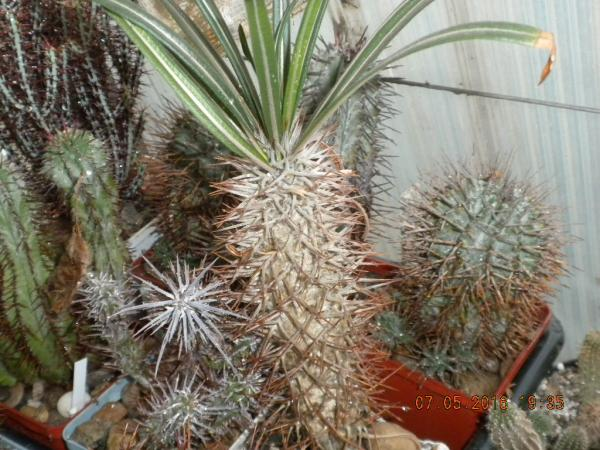Pachypodium geayi: (145, 13, 451, 441)
